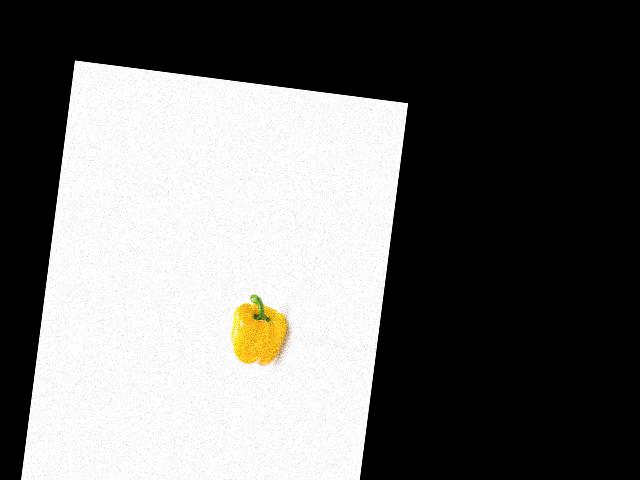bell_pepper: (224, 285, 291, 370)
